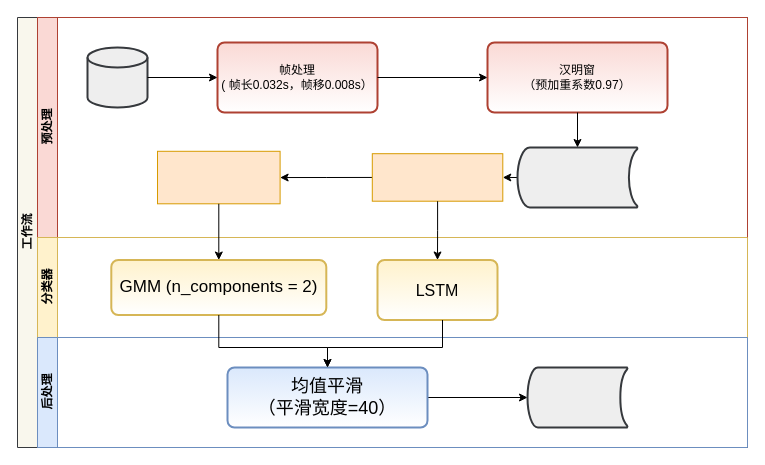
Some shapes in this 765 by 465 pixel diagram are drawn without their labels. The centre of each missing label's shape, as x and y in pixels:
"FBank" goes at [437,177].
"MFCC" goes at [218,177].
"帧数据" goes at [577,177].
"数据集" goes at [117,77].
"输出标签" goes at [577,397].
